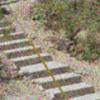stairs: (0, 6, 100, 100)
